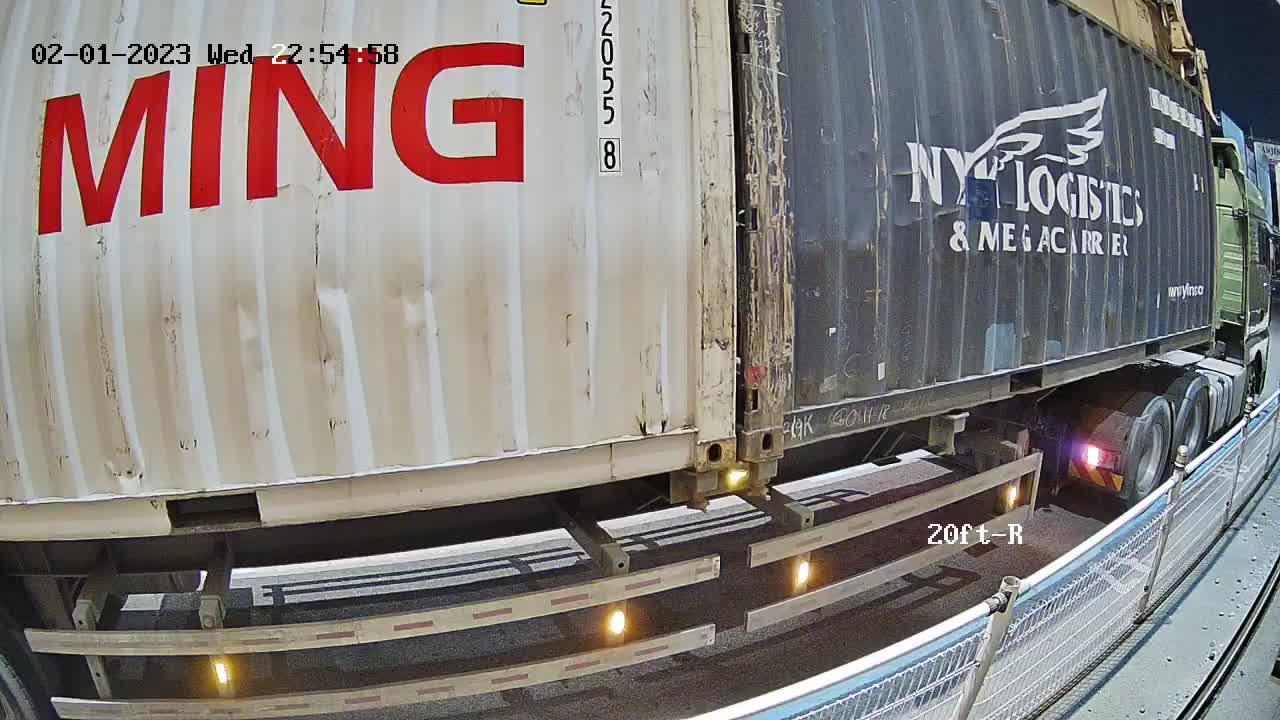Cone: (744, 458, 783, 504), (681, 470, 722, 513)
Hole_L: (747, 381, 815, 464)
Hole_R: (648, 389, 735, 475)
Tire: (1129, 399, 1171, 505), (1178, 380, 1210, 468)
